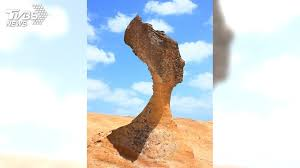yehliu: (121, 14, 195, 90)
